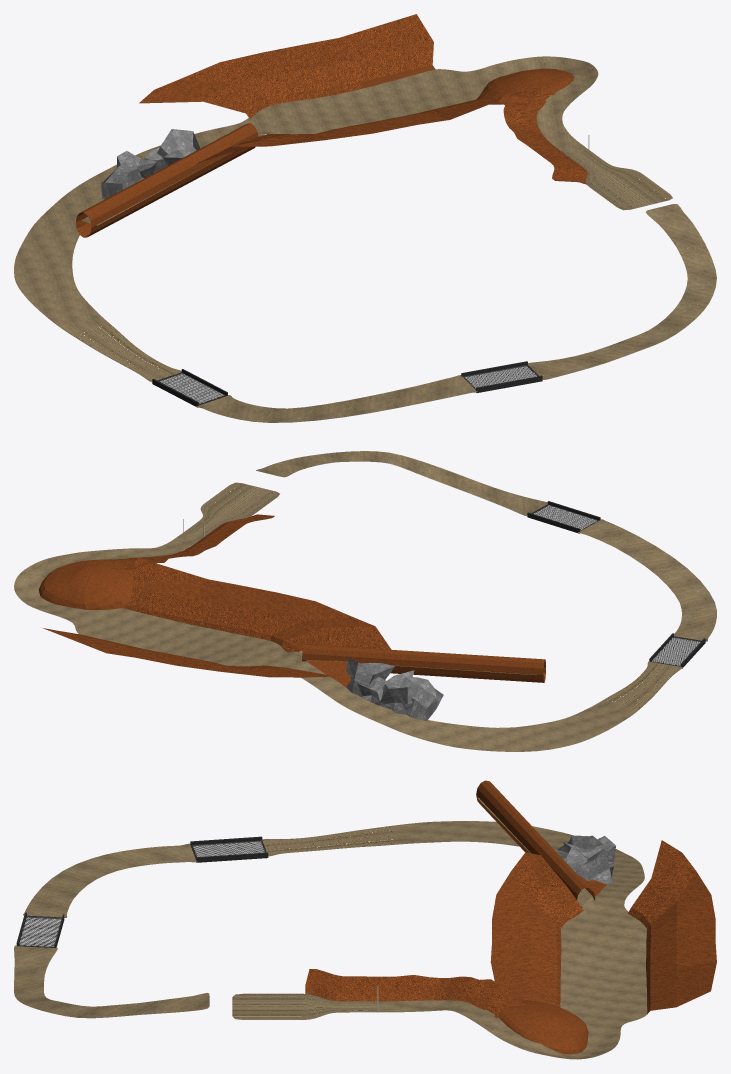
The model's file is WesternTrack.obj.
3 renders of one model, top to bottom at view 1: azimuth 30°, elevation 25°; view 2: azimuth 150°, elevation 25°; view 3: azimuth 270°, elevation 25°, orthographic. The views are drawn at different scales.
Visible parts, largest first — view 1: Plane_Plane.002, Plane.005_Plane.001, Plane.004_Plane.005, Plane.006, Cylinder.001_Cylinder.002, Plane.002_Plane.003, Sphere, Plane.003_Plane.004, Plane.001_Plane, Cube.003, Cube.002; view 2: Plane_Plane.002, Plane.006, Cylinder.001_Cylinder.002, Plane.002_Plane.003, Plane.004_Plane.005, Sphere, Plane.005_Plane.001, Plane.003_Plane.004, Cube.002, Plane.001_Plane, Cube.003, Cube (+2 smaller); view 3: Plane_Plane.002, Plane.006, Plane.005_Plane.001, Plane.004_Plane.005, Plane.002_Plane.003, Sphere, Cylinder.001_Cylinder.002, Plane.001_Plane, Plane.003_Plane.004, Cube.003, Cube, Cube.002.
Boxes of the visible parts, x1,y1,x2,y2 form: Plane_Plane.002: (14,56,672,382); Plane.005_Plane.001: (139,14,435,118); Plane.004_Plane.005: (528,204,716,379); Plane.006: (197,84,587,184); Cylinder.001_Cylinder.002: (75,123,258,237); Plane.002_Plane.003: (196,375,477,422); Sphere: (476,68,574,104); Plane.003_Plane.004: (461,361,542,392); Plane.001_Plane: (152,369,227,407); Cube.003: (157,129,200,165); Cube.002: (101,154,144,199); Plane_Plane.002: (14,482,682,751); Plane.006: (107,514,391,652); Cylinder.001_Cylinder.002: (302,644,545,682); Plane.002_Plane.003: (578,519,716,641); Plane.004_Plane.005: (256,451,547,516); Sphere: (38,559,135,609); Plane.005_Plane.001: (43,628,336,677); Plane.003_Plane.004: (527,501,600,533); Cube.002: (397,677,443,721); Plane.001_Plane: (649,633,705,668); Cube.003: (346,658,395,697); Cube: (377,670,414,714); Plane_Plane.002: (232,821,647,1059); Plane.006: (305,852,583,1017); Plane.005_Plane.001: (628,840,716,1014); Plane.004_Plane.005: (14,945,209,1018); Plane.002_Plane.003: (23,843,197,917); Sphere: (498,1000,588,1054); Cylinder.001_Cylinder.002: (476,780,595,907); Plane.001_Plane: (190,836,268,862); Plane.003_Plane.004: (16,912,64,947); Cube.003: (565,847,612,884); Cube: (563,836,615,879); Cube.002: (557,835,603,861).
Size of the model in its own units: 427 by 61.62 by 426.
